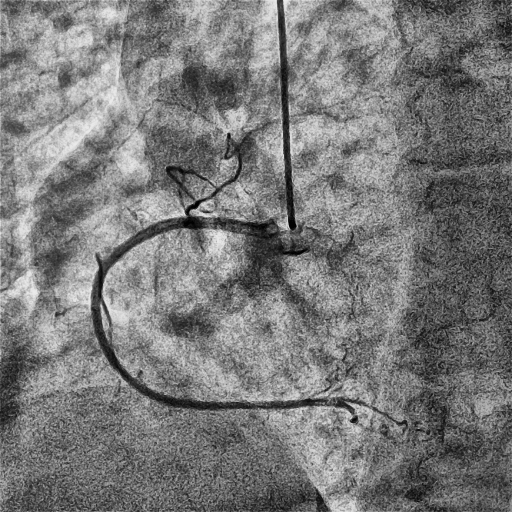pborca: (343, 398, 408, 434)
pda: (342, 403, 389, 435)
rca: (90, 217, 343, 410)
